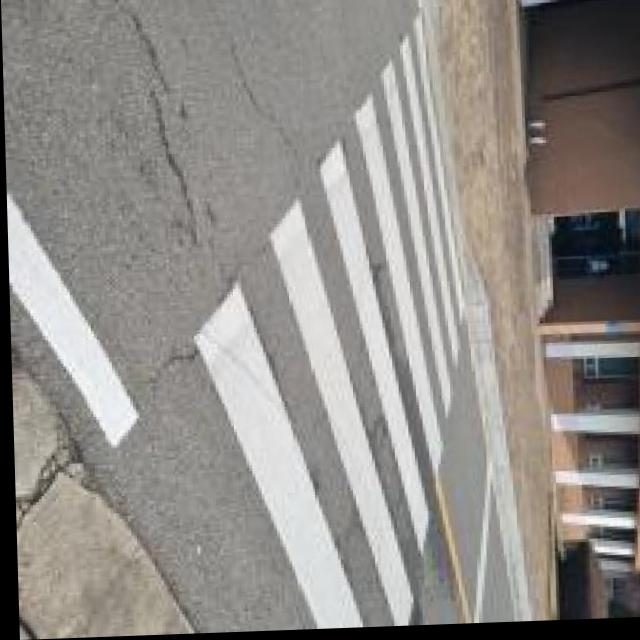zebra: (219, 20, 450, 610)
